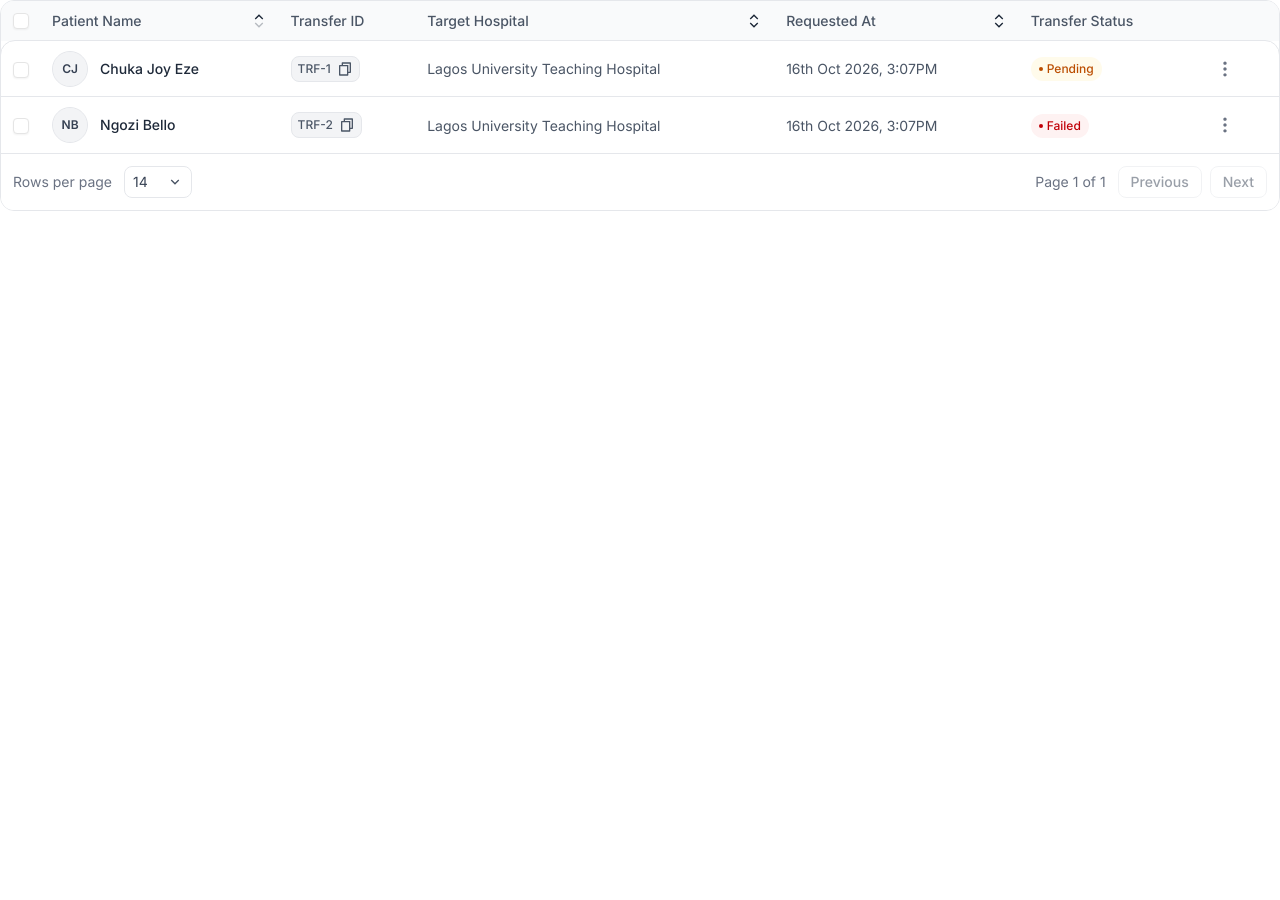
Transfer recovery from the row menu › resending a waiting request shows where the link went in the transfer's details
The image size is (1280, 900).
Click the 1st button named "Open transfer actions": coordinates (1225, 68) [1207,50,1243,86]
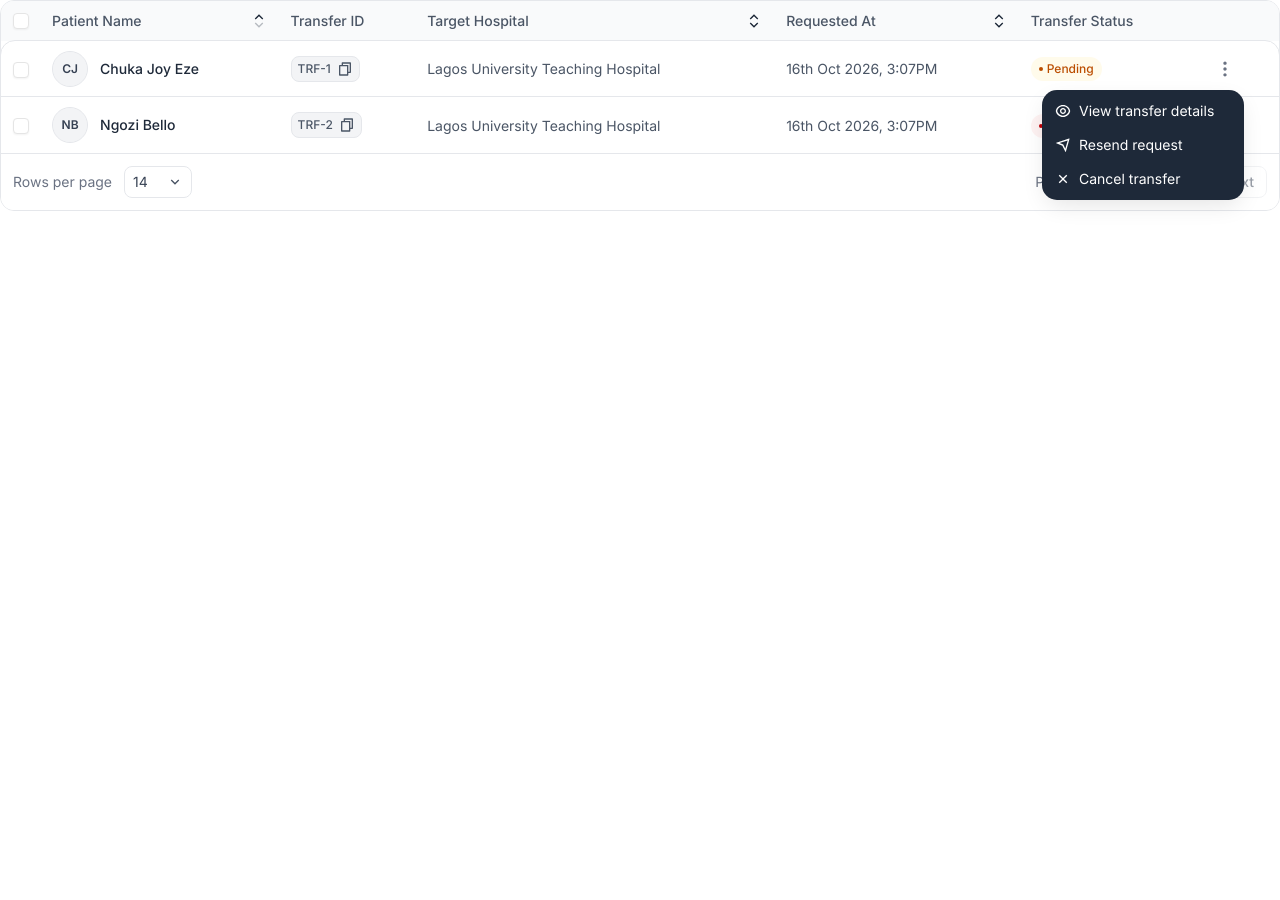
Click the menu item "Resend request": coordinates (1119, 144) [1055,136,1182,153]
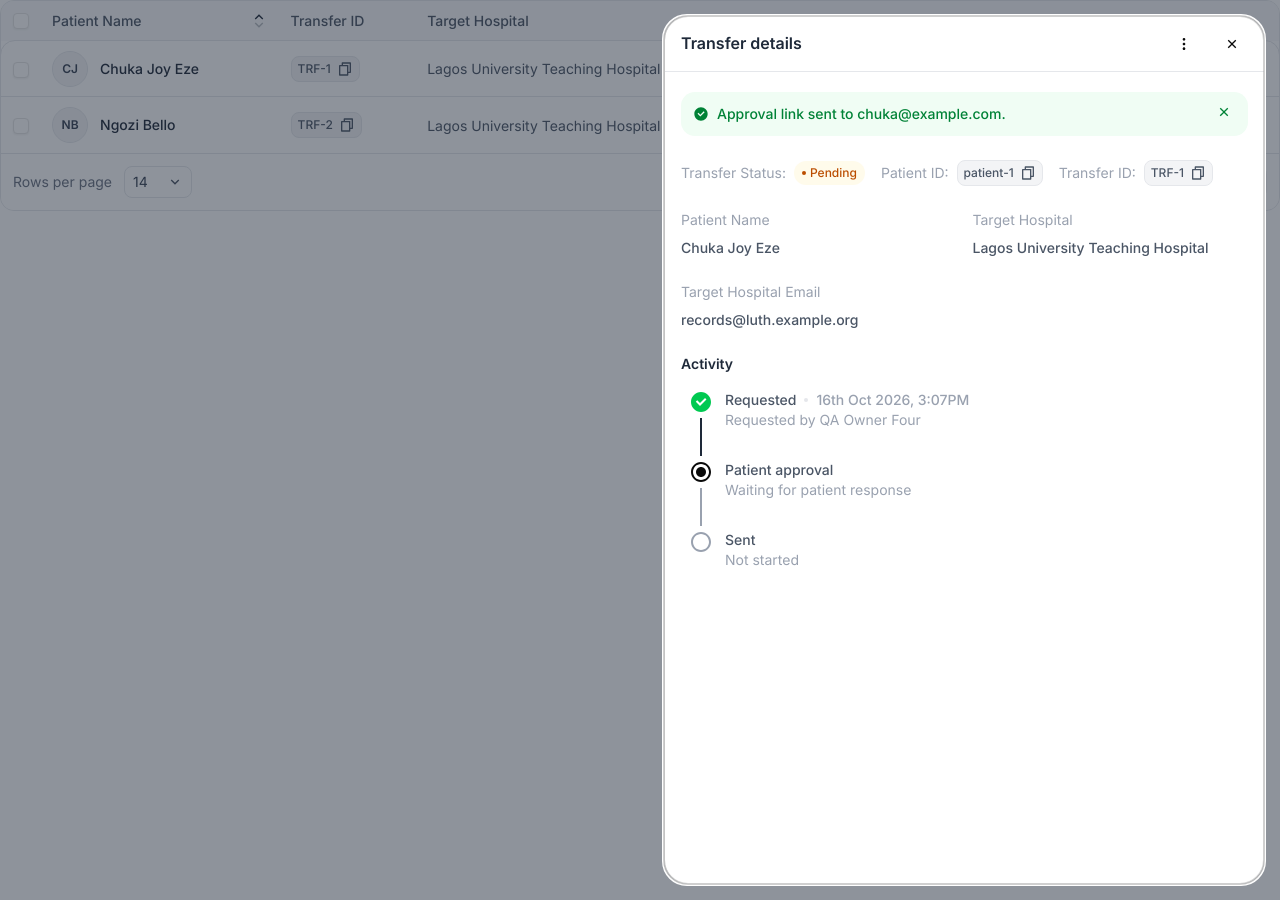
Expected: the message reads "Approval link sent to chuka@example.com.", [717,105,1006,122]
Expected: the text "Chuka Joy Eze" is shown, [681,239,780,256]
